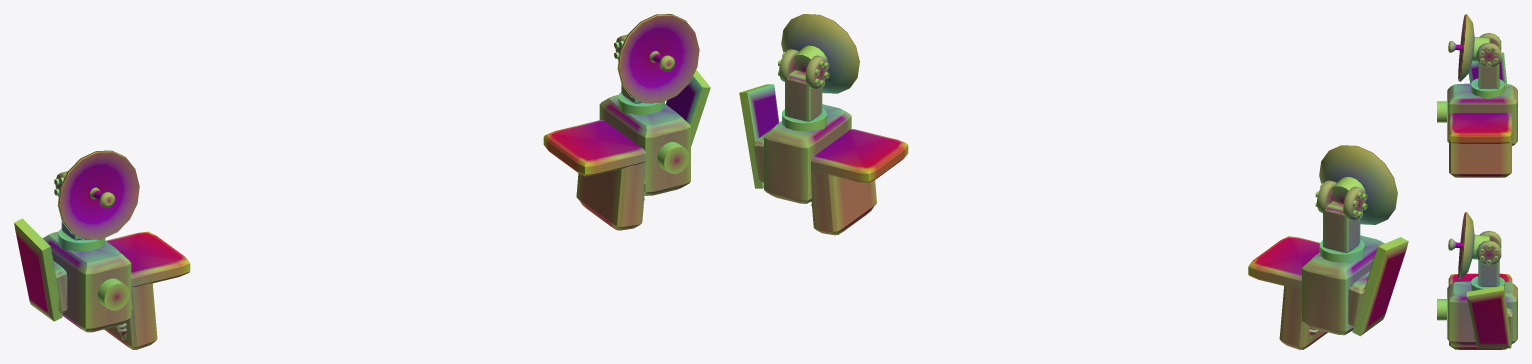
Rendered from llm_gen_shoulder_pods_020_a07b53.glb.
3 views of the same model, side by side, from view 1: azimuth 30°, elevation 25°; view 2: azimuth 150°, elevation 25°; view 3: azimuth 270°, elevation 25° (orthographic). The views are drawn at different scales.
Parts seen in each view (by area): view 1: adapter_shoulder_yoke_r, parabolic_dish_5_wing_white_r, parabolic_dish_5_wing_white_l, radar_housing_0_wing_white_l, adapter_shoulder_yoke_l, radar_housing_0_wing_white_r, jammer_fin_8_adapter_dark_l, jammer_fin_8_adapter_dark_r, recon_optic_9_optic_cyan_l, recon_optic_9_optic_cyan_r, adapter_sub_azimuth_base_dark_1_adapter_dark_r, adapter_sub_azimuth_base_dark_1_adapter_dark_l; view 2: adapter_shoulder_yoke_r, radar_housing_0_wing_white_r, radar_housing_0_wing_white_l, adapter_shoulder_yoke_l, parabolic_dish_5_wing_white_l, parabolic_dish_5_wing_white_r, jammer_fin_8_adapter_dark_l, jammer_fin_8_adapter_dark_r, adapter_sub_dish_pedestal_dark_2_adapter_dark_r, adapter_sub_dish_pedestal_dark_2_adapter_dark_l, servo_3_servo_accent_l, servo_3_servo_accent_r (+3 smaller); view 3: adapter_shoulder_yoke_l, jammer_fin_8_adapter_dark_r, radar_housing_0_wing_white_r, radar_housing_0_wing_white_l, parabolic_dish_5_wing_white_l, parabolic_dish_5_wing_white_r, servo_3_servo_accent_r, servo_3_servo_accent_l, adapter_sub_dish_pedestal_dark_2_adapter_dark_r, adapter_sub_dish_pedestal_dark_2_adapter_dark_l, adapter_shoulder_yoke_r, adapter_sub_azimuth_base_dark_1_adapter_dark_l (+11 smaller).
Boxes of the visible parts, x1=… form: adapter_shoulder_yoke_r: x1=543, y1=120, x2=646, y2=230; parabolic_dish_5_wing_white_r: x1=617, y1=14, x2=699, y2=103; parabolic_dish_5_wing_white_l: x1=57, y1=150, x2=139, y2=240; radar_housing_0_wing_white_l: x1=42, y1=231, x2=131, y2=332; adapter_shoulder_yoke_l: x1=104, y1=231, x2=190, y2=349; radar_housing_0_wing_white_r: x1=599, y1=95, x2=690, y2=195; jammer_fin_8_adapter_dark_l: x1=14, y1=218, x2=62, y2=321; jammer_fin_8_adapter_dark_r: x1=665, y1=69, x2=710, y2=146; recon_optic_9_optic_cyan_l: x1=97, y1=278, x2=129, y2=310; recon_optic_9_optic_cyan_r: x1=657, y1=142, x2=689, y2=173; adapter_sub_azimuth_base_dark_1_adapter_dark_r: x1=618, y1=92, x2=664, y2=114; adapter_sub_azimuth_base_dark_1_adapter_dark_l: x1=58, y1=228, x2=105, y2=251; adapter_shoulder_yoke_r: x1=811, y1=128, x2=908, y2=235; radar_housing_0_wing_white_r: x1=764, y1=104, x2=851, y2=203; radar_housing_0_wing_white_l: x1=1302, y1=235, x2=1384, y2=335; adapter_shoulder_yoke_l: x1=1248, y1=236, x2=1327, y2=349; parabolic_dish_5_wing_white_l: x1=1319, y1=145, x2=1397, y2=224; parabolic_dish_5_wing_white_r: x1=781, y1=14, x2=859, y2=93; jammer_fin_8_adapter_dark_l: x1=1352, y1=237, x2=1408, y2=336; jammer_fin_8_adapter_dark_r: x1=739, y1=84, x2=779, y2=188; adapter_sub_dish_pedestal_dark_2_adapter_dark_r: x1=785, y1=70, x2=822, y2=121; adapter_sub_dish_pedestal_dark_2_adapter_dark_l: x1=1323, y1=201, x2=1360, y2=252; servo_3_servo_accent_l: x1=1317, y1=180, x2=1365, y2=220; servo_3_servo_accent_r: x1=779, y1=49, x2=827, y2=89; adapter_shoulder_yoke_l: x1=1448, y1=113, x2=1512, y2=177; jammer_fin_8_adapter_dark_r: x1=1466, y1=286, x2=1511, y2=348; radar_housing_0_wing_white_r: x1=1447, y1=281, x2=1517, y2=345; radar_housing_0_wing_white_l: x1=1447, y1=83, x2=1517, y2=145; parabolic_dish_5_wing_white_l: x1=1458, y1=14, x2=1474, y2=81; parabolic_dish_5_wing_white_r: x1=1458, y1=212, x2=1474, y2=279; servo_3_servo_accent_r: x1=1476, y1=231, x2=1501, y2=265; servo_3_servo_accent_l: x1=1476, y1=33, x2=1501, y2=67; adapter_sub_dish_pedestal_dark_2_adapter_dark_r: x1=1478, y1=260, x2=1499, y2=286; adapter_sub_dish_pedestal_dark_2_adapter_dark_l: x1=1478, y1=62, x2=1499, y2=88; adapter_shoulder_yoke_r: x1=1448, y1=273, x2=1512, y2=349; adapter_sub_azimuth_base_dark_1_adapter_dark_l: x1=1471, y1=78, x2=1504, y2=99.
Bounding box in the file's own units: 115 × 32.6 × 16.48.
